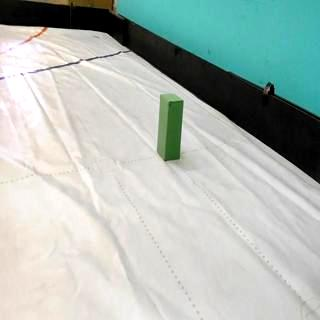greenbox: (156, 92, 184, 162)
